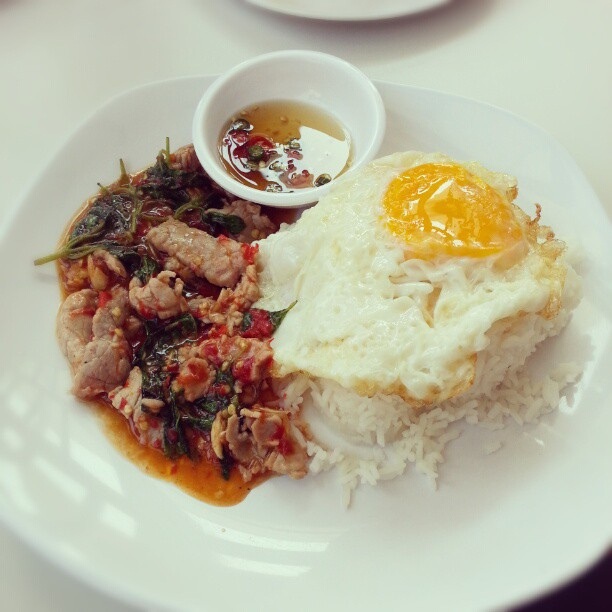fried egg: (287, 168, 541, 375)
plain rice: (286, 372, 575, 480)
